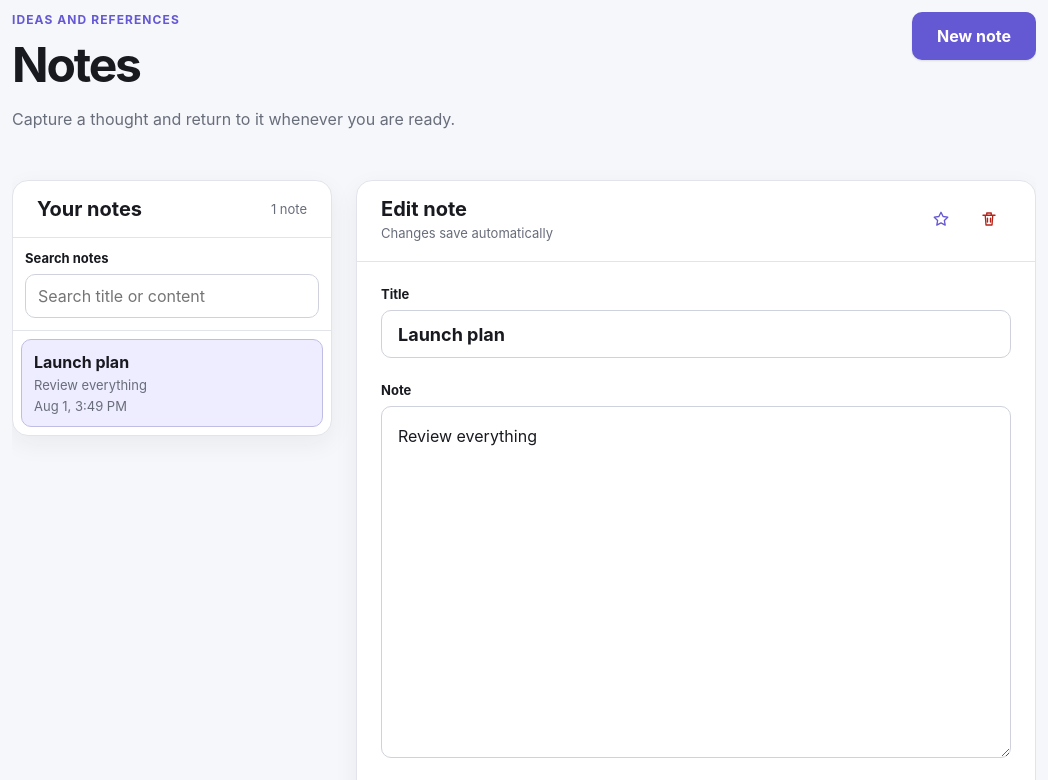
Test case: NotesView › filters notes immediately and shows a useful no-results state
Step 1. Type "missing" into the search field labelled "Search notes" → [172, 296], box [25,274,319,318]
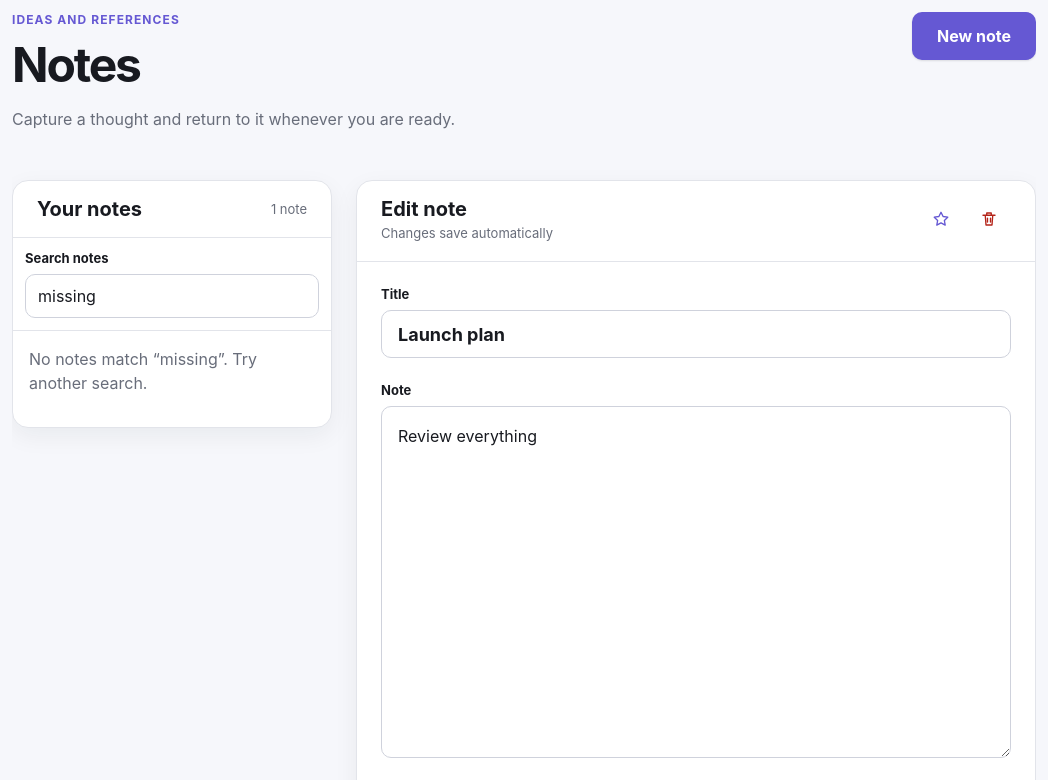
Now the text "No notes match “missing”" is shown, box [29,349,257,393]
Step 2. Replace the text in the search field labelled "Search notes" with "LAUNCH" → [172, 296], box [25,274,319,318]
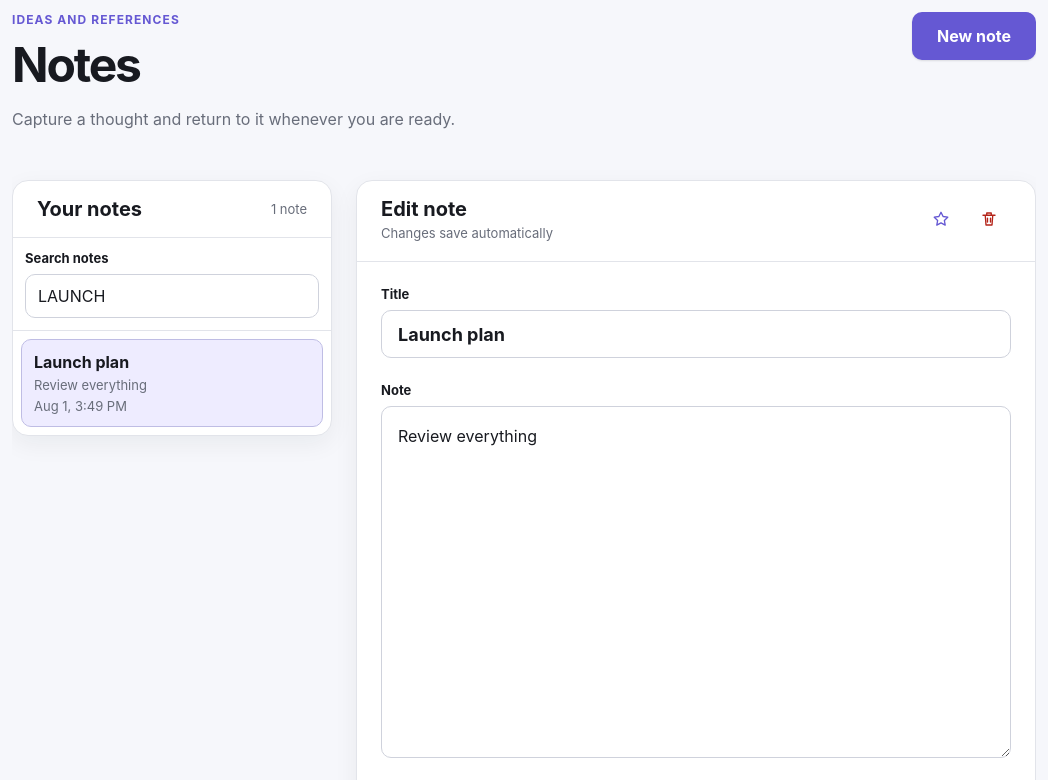
Now the text "Launch plan" is shown, box [34,352,129,372]
